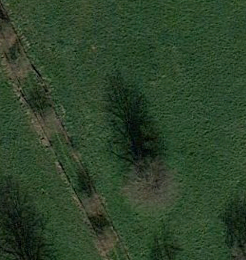tree: (111, 144, 195, 213)
